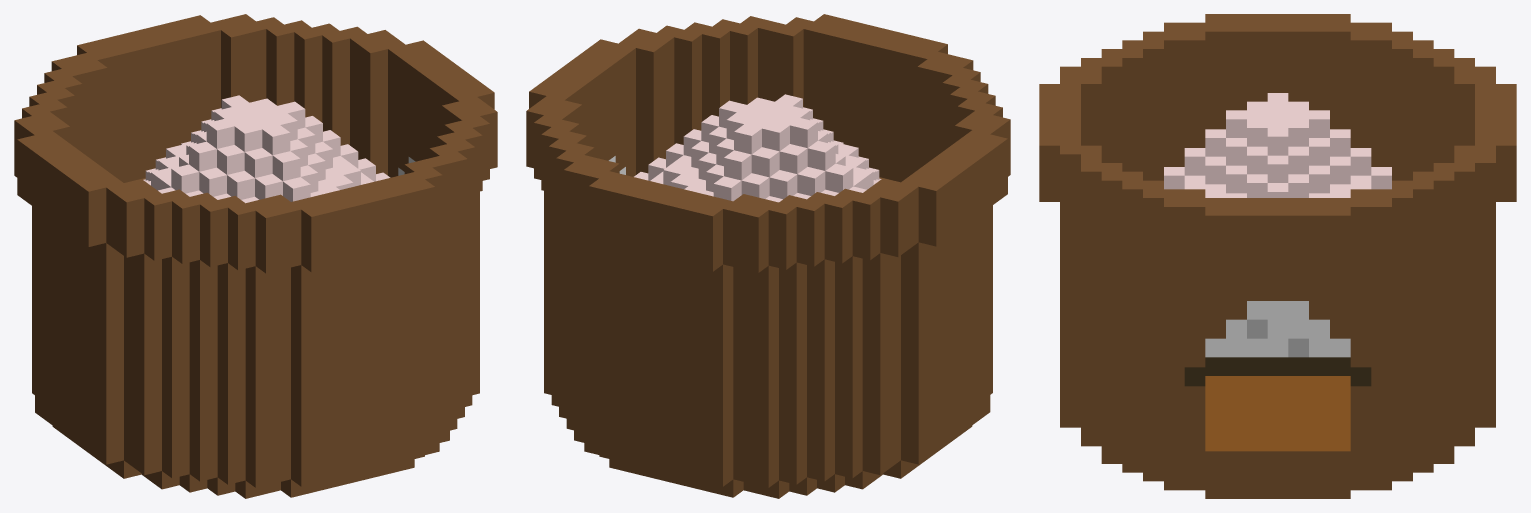
File: break_box_pao.fbx
3 views of the same model, side by side, from view 1: azimuth 30°, elevation 25°; view 2: azimuth 150°, elevation 25°; view 3: azimuth 270°, elevation 25° (orthographic).
Parts seen in each view (by area): view 1: Box_Bread_Pao:Box_Bread_Pao; view 2: Box_Bread_Pao:Box_Bread_Pao; view 3: Box_Bread_Pao:Box_Bread_Pao.
Boxes of the visible parts, left/top/right/bottom form: Box_Bread_Pao:Box_Bread_Pao: left=14, top=14, right=497, bottom=498; Box_Bread_Pao:Box_Bread_Pao: left=526, top=14, right=1010, bottom=498; Box_Bread_Pao:Box_Bread_Pao: left=1039, top=14, right=1516, bottom=498.
Bounding box in the file's own units: 23 × 16 × 23.
